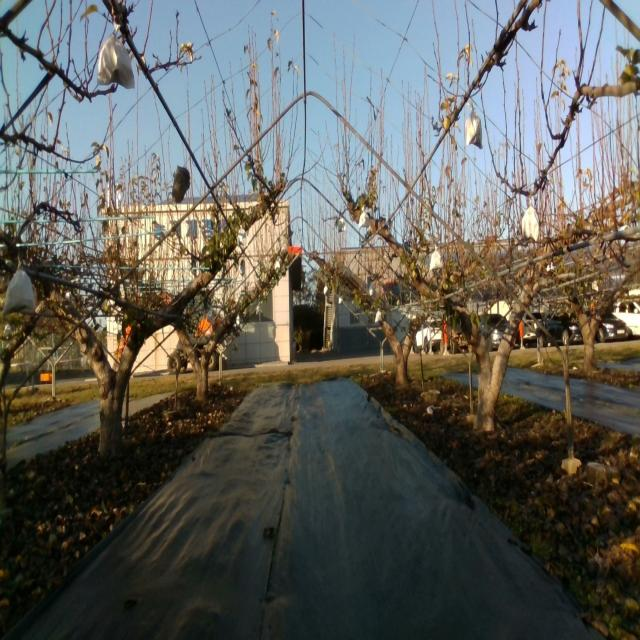pearbags: (94, 25, 136, 88), (0, 263, 35, 313), (463, 99, 482, 149), (522, 207, 538, 244), (429, 244, 444, 272), (236, 224, 248, 248), (358, 205, 369, 229)
